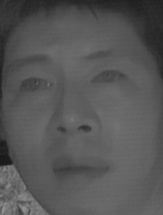eye: (15, 74, 56, 100), (91, 68, 129, 91)
mouth: (46, 151, 110, 188)
